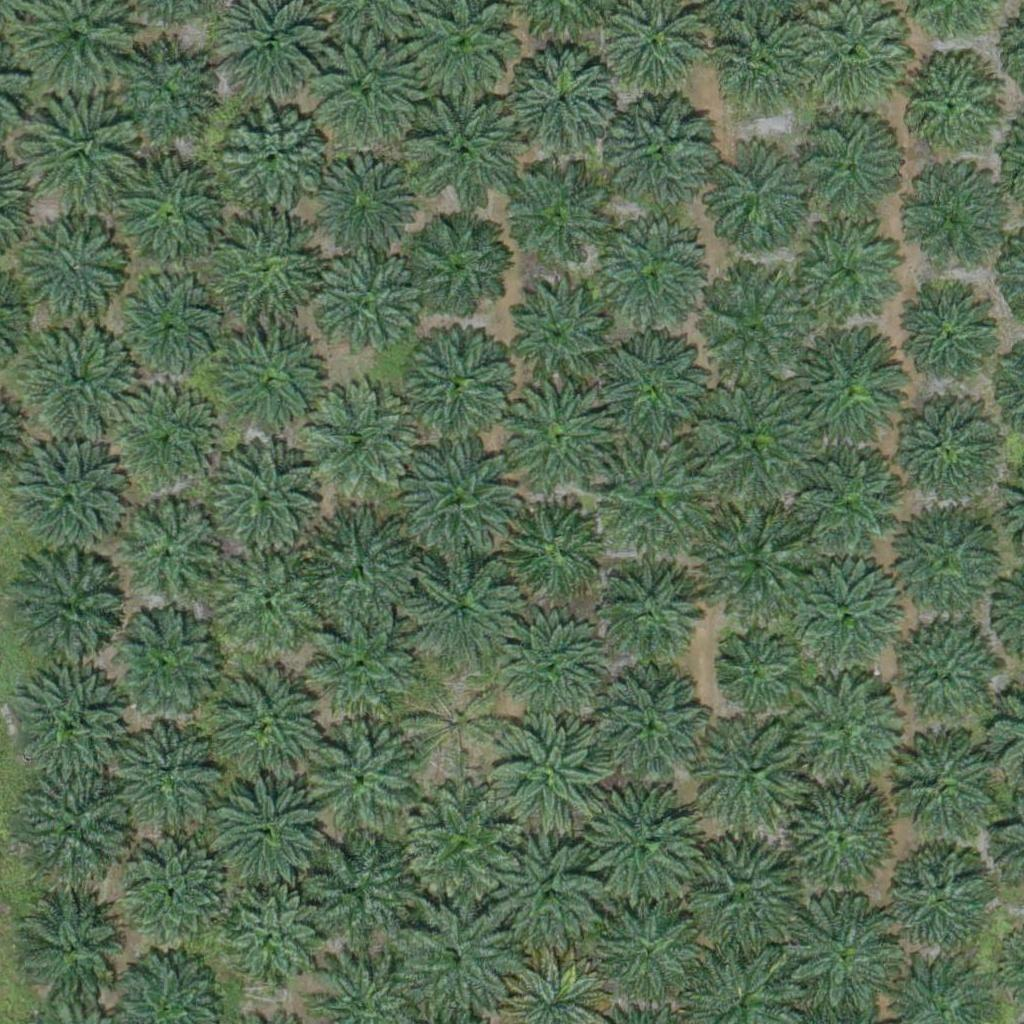Kelapa_Sawit: (202, 212, 327, 338), (212, 322, 337, 448), (18, 87, 143, 213), (781, 447, 906, 573), (695, 504, 820, 630), (197, 430, 322, 556), (795, 217, 908, 331), (699, 139, 812, 253), (788, 330, 901, 444), (26, 324, 139, 438), (790, 782, 903, 896), (696, 716, 809, 830), (782, 897, 895, 1011), (500, 379, 613, 493), (595, 669, 708, 783), (310, 42, 423, 155), (696, 274, 809, 387), (509, 279, 622, 392), (402, 325, 515, 438), (408, 100, 521, 213), (304, 145, 417, 258), (889, 395, 1002, 508), (890, 508, 1003, 621), (682, 841, 795, 954), (583, 786, 696, 899), (16, 669, 129, 782), (17, 771, 130, 884), (17, 886, 130, 999), (104, 380, 217, 493), (213, 541, 326, 654), (300, 834, 413, 947), (308, 726, 421, 839), (304, 609, 417, 722), (298, 511, 411, 624), (404, 787, 517, 900), (598, 439, 711, 552), (400, 905, 513, 1018), (793, 106, 905, 220), (605, 94, 717, 208), (304, 380, 416, 494), (404, 440, 516, 554), (499, 617, 611, 731), (898, 55, 1010, 168), (508, 50, 620, 163), (892, 164, 1004, 277), (500, 167, 612, 280), (596, 228, 708, 341), (600, 330, 712, 443), (313, 254, 425, 367), (219, 103, 331, 216), (114, 157, 226, 270), (888, 626, 1000, 739), (885, 734, 997, 847), (789, 562, 901, 675), (788, 673, 900, 786), (697, 384, 809, 497), (595, 896, 707, 1009), (14, 446, 126, 559), (14, 558, 126, 671), (111, 607, 223, 720), (118, 492, 230, 605), (216, 665, 328, 778), (212, 772, 324, 885), (406, 552, 518, 665), (491, 836, 603, 949), (492, 714, 604, 827), (407, 674, 507, 775), (410, 217, 510, 318), (117, 285, 217, 386), (29, 225, 129, 326), (127, 838, 227, 939), (123, 724, 223, 825), (224, 892, 324, 993), (105, 49, 205, 149), (903, 291, 1003, 391), (887, 847, 987, 947), (502, 501, 602, 601), (601, 559, 701, 659), (715, 635, 790, 711), (718, 26, 793, 101)
